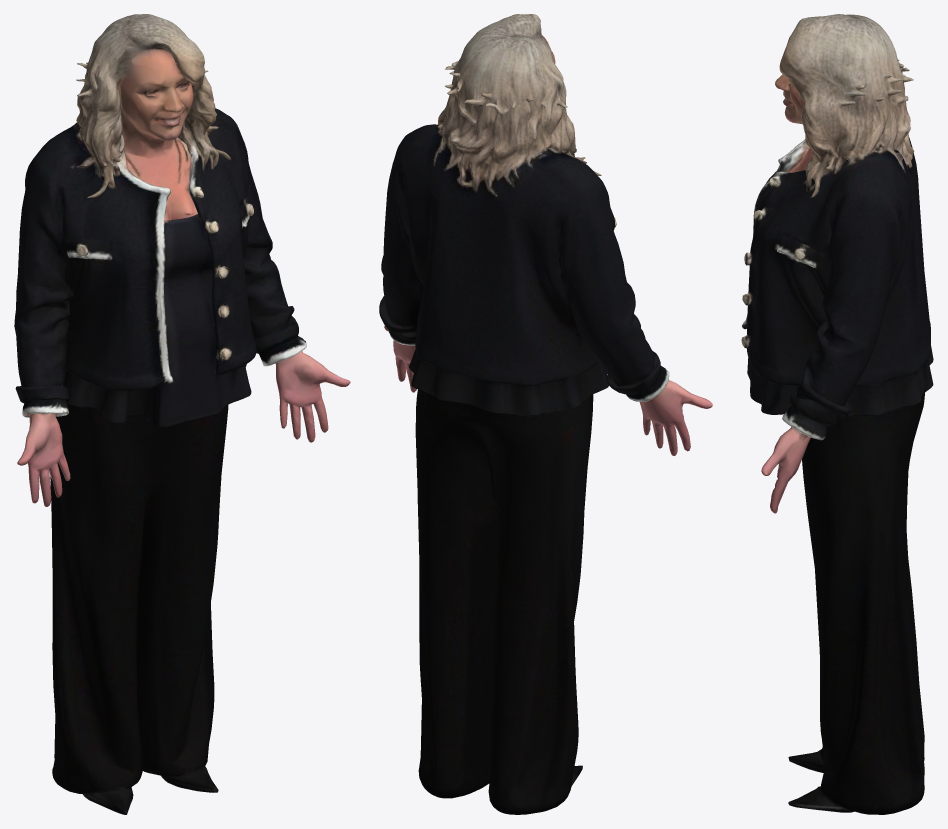
Rendered from debbie.glb.
The picture shows the model from 3 angles, left to right: view 1: azimuth 30°, elevation 25°; view 2: azimuth 150°, elevation 25°; view 3: azimuth 270°, elevation 25°; orthographic projection.
Parts seen in each view (by area): view 1: model; view 2: model; view 3: model.
Part boxes in pixels (x1,y1,x2,y2): model: (14, 14, 350, 814); model: (379, 14, 712, 814); model: (741, 14, 933, 814).
Bounding box in the file's own units: 0.4437 × 0.9789 × 0.2218.
Materials: 1 (1 with a texture image).
